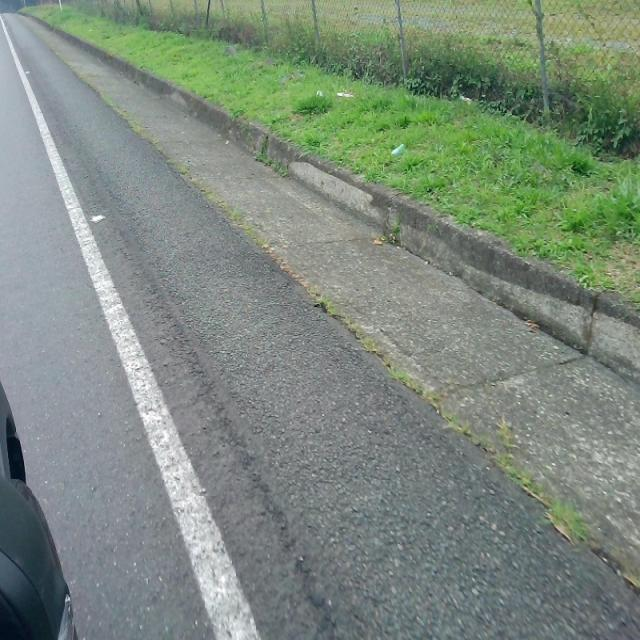DITCH: (5, 7, 638, 638), (4, 47, 638, 638)
